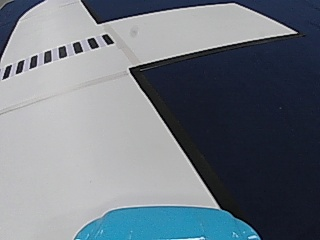CrossWalk: (7, 34, 111, 75)
